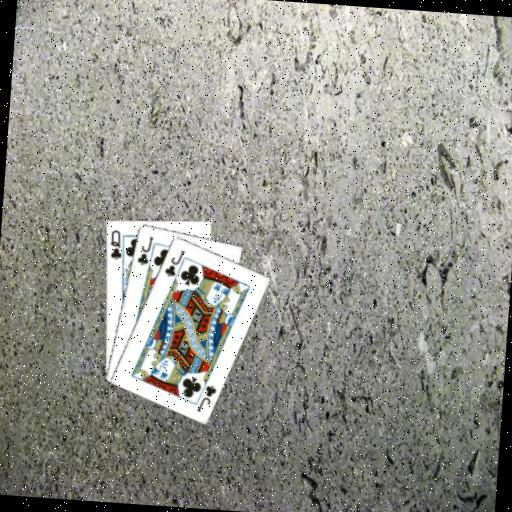JC: (161, 245, 187, 279), (193, 381, 218, 415), (134, 232, 155, 267)
QC: (106, 227, 125, 262)
